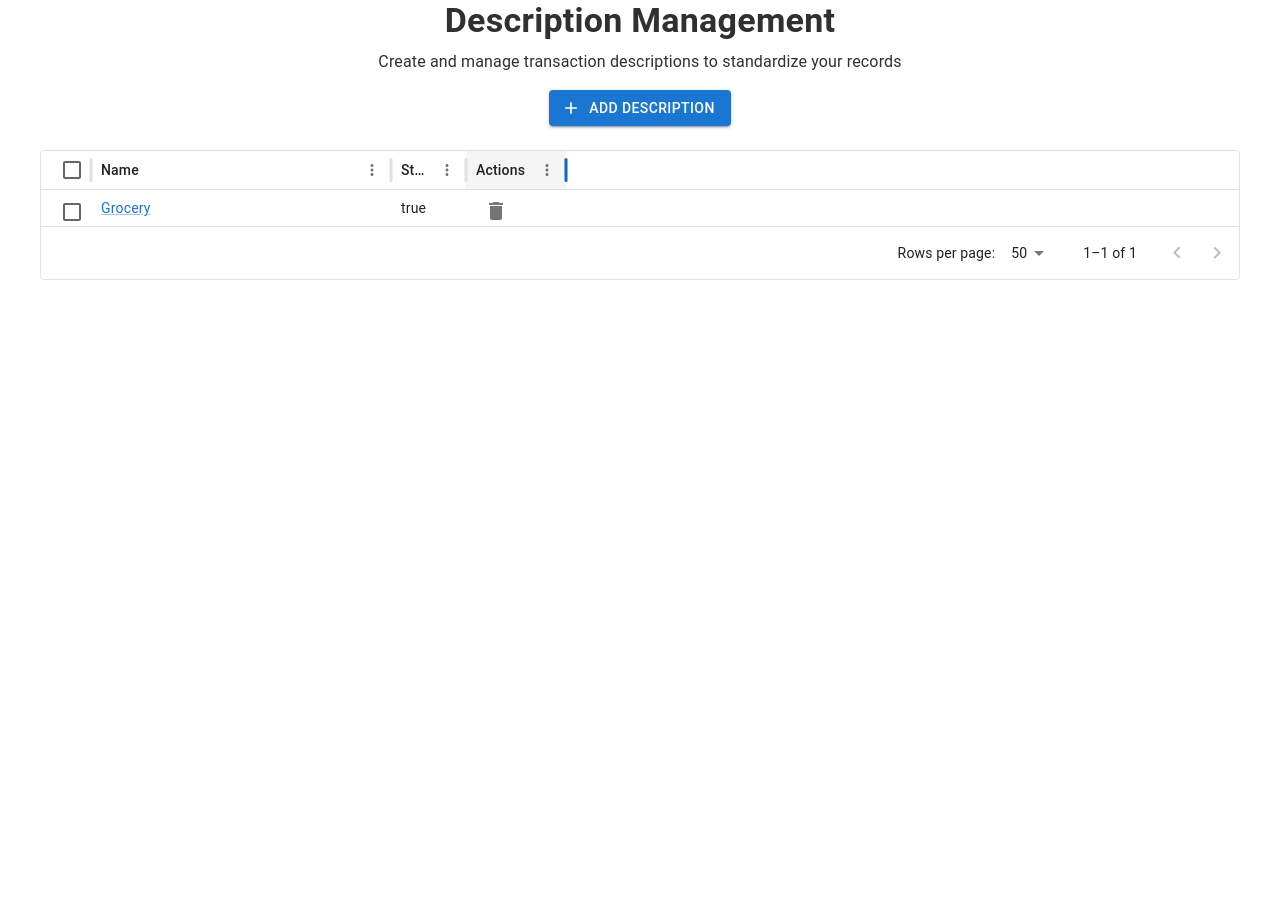
Test case: pages/finance/descriptions › Basic CRUD Operations › opens Add Description modal
The image size is (1280, 900).
Click the button "Add Description": coordinates (640, 108) left=549, top=90, right=731, bottom=126
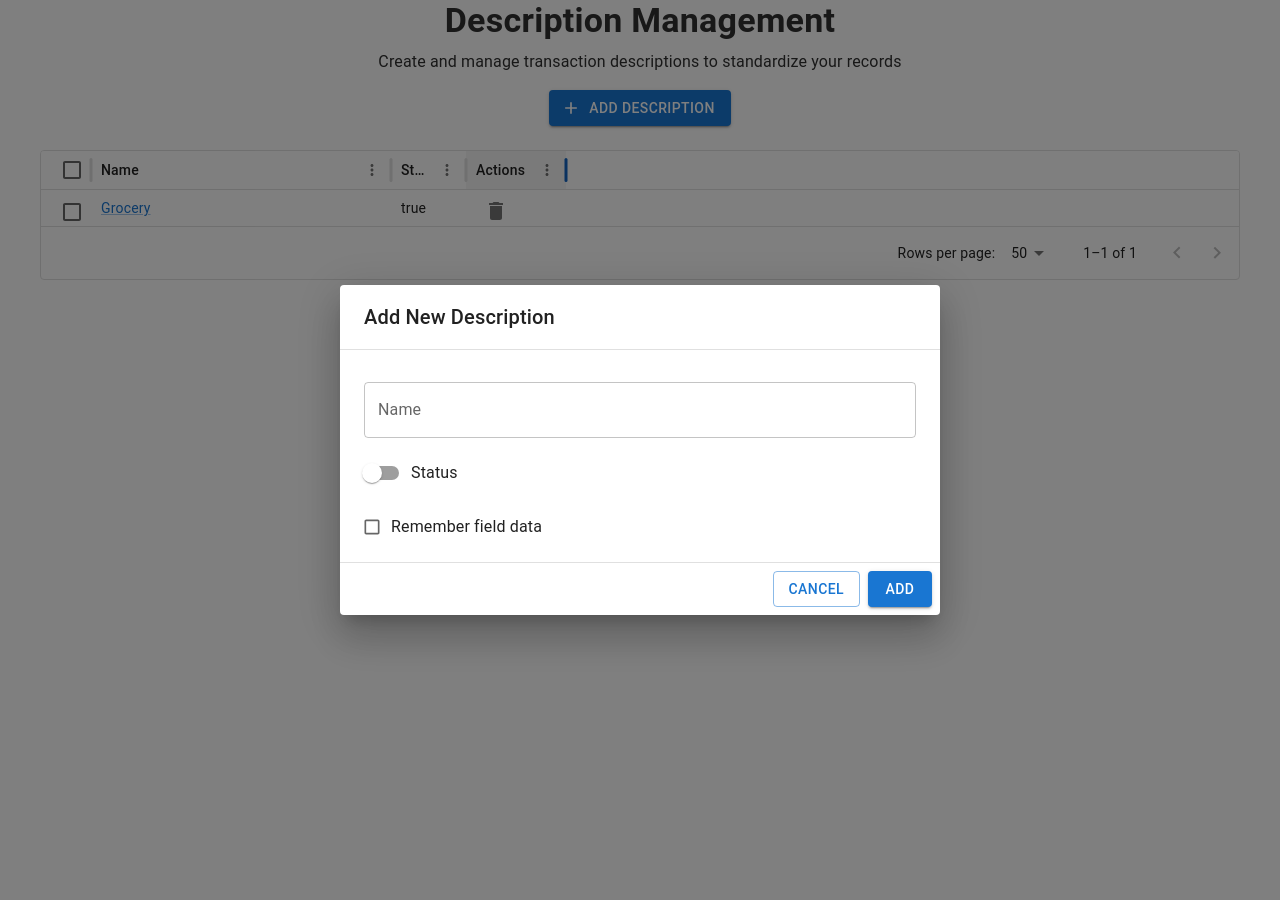
Expected: the heading "Add New Description" is shown, left=364, top=305, right=555, bottom=329
